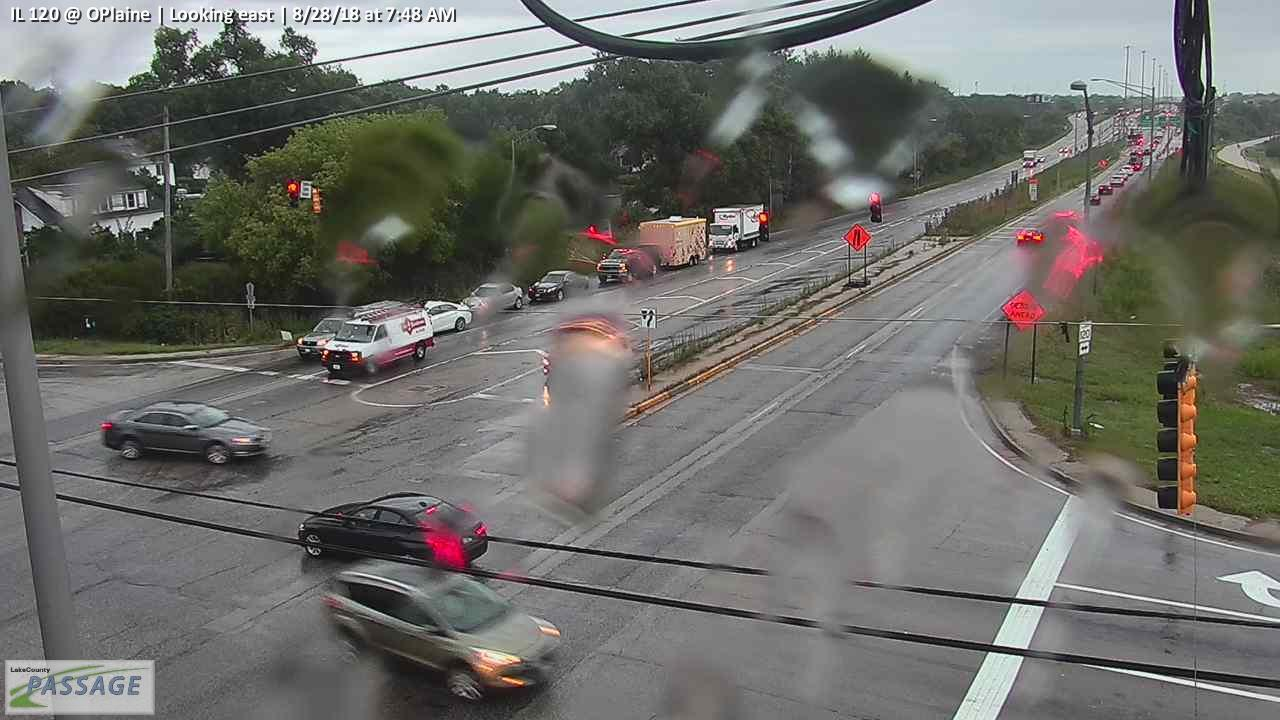SUV: (320, 562, 564, 705), (320, 307, 436, 377)
Sedan: (293, 489, 490, 567), (96, 400, 274, 467), (527, 268, 591, 306), (463, 280, 526, 315), (420, 300, 473, 330)
Truck: (593, 214, 708, 286), (709, 202, 765, 251)
